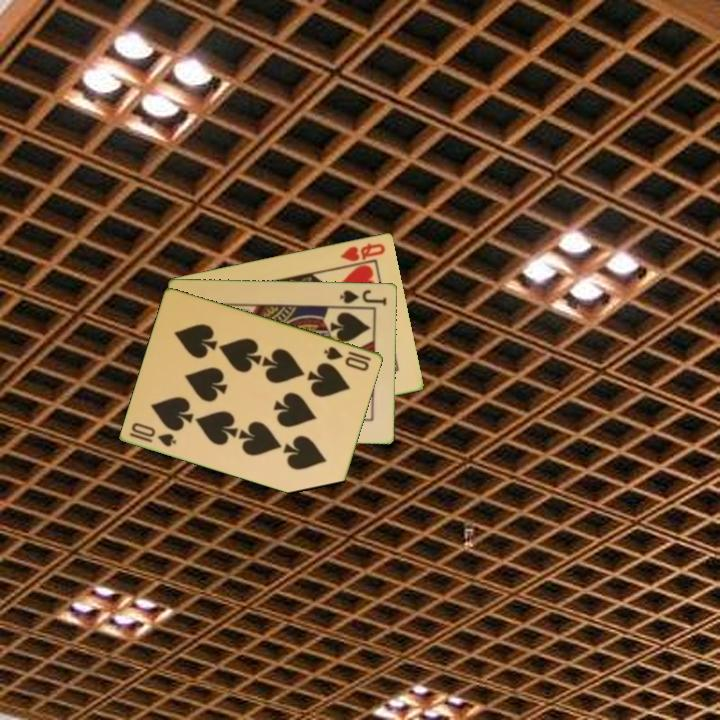10s: (321, 342, 375, 374), (126, 419, 180, 450)
Js: (337, 286, 390, 308)
Qh: (337, 239, 388, 264)
